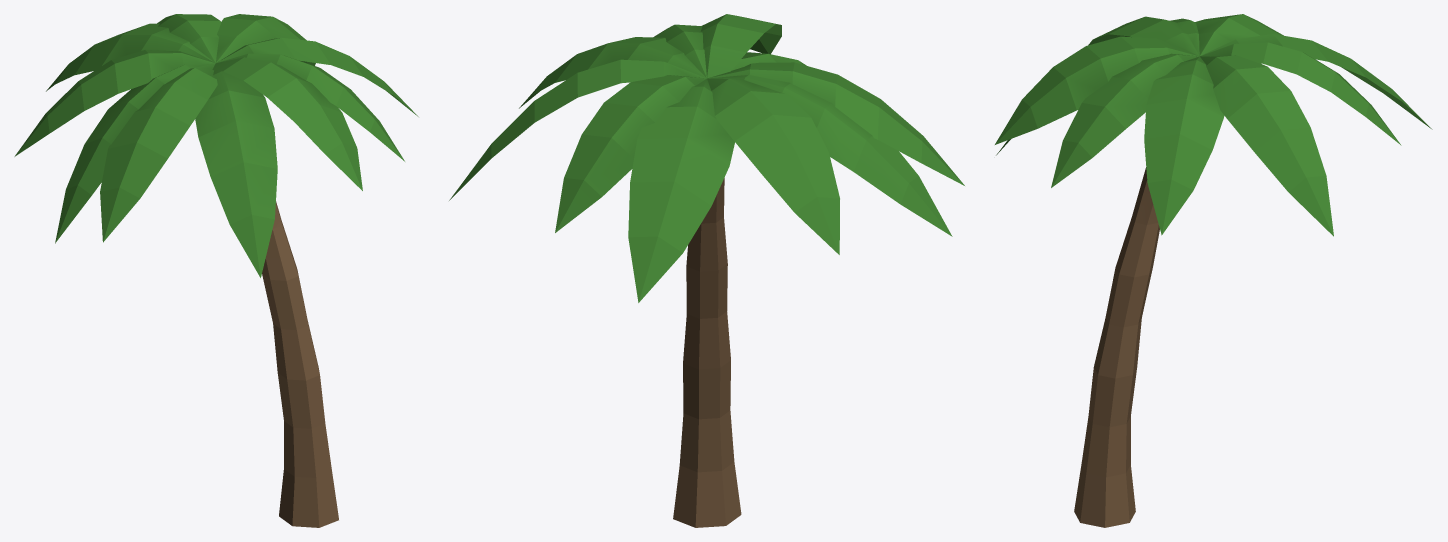
Rendered from Palm2.fbx.
The picture shows the model from 3 angles, left to right: view 1: azimuth 30°, elevation 25°; view 2: azimuth 150°, elevation 25°; view 3: azimuth 270°, elevation 25°; orthographic projection. The views are drawn at different scales.
Parts seen in each view (by area): view 1: Palm2; view 2: Palm2; view 3: Palm2.
Boxes of the visible parts, x1,y1,x2,y2 form: Palm2: (14, 14, 418, 527); Palm2: (449, 14, 964, 527); Palm2: (995, 14, 1432, 527).
Size of the model in its own units: 6.35 by 7.27 by 6.38.
